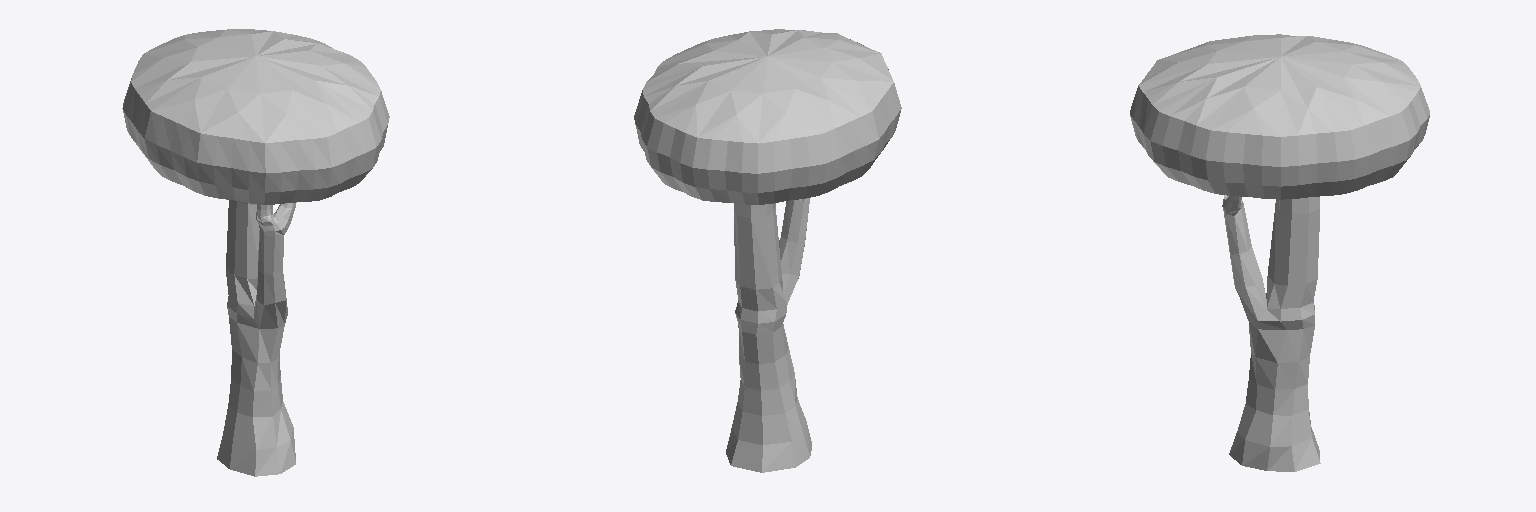
File: O_JungleWorldTree_b.obj
The picture shows the model from 3 angles: view 1: azimuth 30°, elevation 25°; view 2: azimuth 150°, elevation 25°; view 3: azimuth 270°, elevation 25°; orthographic projection.
Parts seen in each view (by area): view 1: Tree_Thick_Alt_Tree_Single_Asteroid_Asteroid_highpoly_Icosphere.; view 2: Tree_Thick_Alt_Tree_Single_Asteroid_Asteroid_highpoly_Icosphere.; view 3: Tree_Thick_Alt_Tree_Single_Asteroid_Asteroid_highpoly_Icosphere..
Part boxes in pixels (bbox=[...]): Tree_Thick_Alt_Tree_Single_Asteroid_Asteroid_highpoly_Icosphere.: bbox=[122, 29, 389, 476]; Tree_Thick_Alt_Tree_Single_Asteroid_Asteroid_highpoly_Icosphere.: bbox=[634, 29, 901, 472]; Tree_Thick_Alt_Tree_Single_Asteroid_Asteroid_highpoly_Icosphere.: bbox=[1130, 34, 1429, 471].
Bounding box in the file's own units: 13.16 × 22.55 × 15.43.